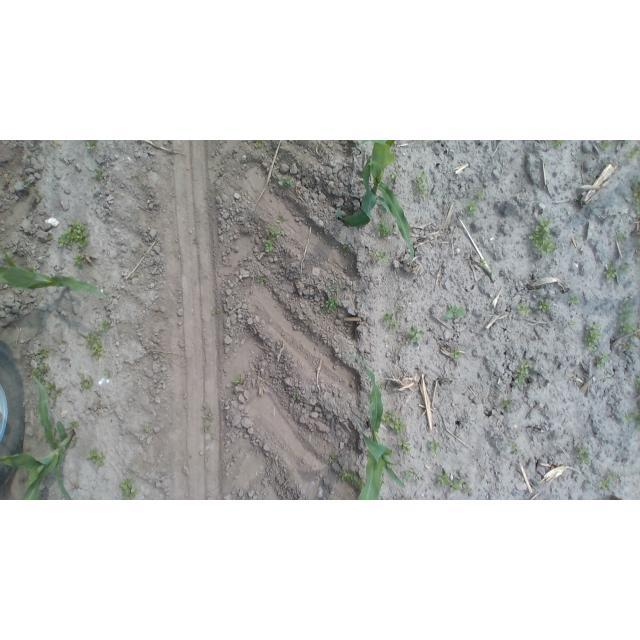Maize: (337, 140, 416, 269), (1, 377, 80, 500), (350, 356, 409, 500), (1, 248, 112, 305)
Weeds: (527, 218, 557, 259), (56, 220, 90, 251), (264, 215, 284, 253), (339, 466, 366, 492), (383, 408, 406, 434), (584, 322, 602, 351), (624, 399, 640, 431), (514, 358, 531, 388), (44, 381, 66, 402), (87, 332, 103, 359), (121, 477, 140, 499), (376, 219, 399, 237), (86, 448, 106, 468), (620, 320, 640, 340), (449, 477, 471, 495), (619, 298, 634, 323), (445, 302, 468, 318), (414, 170, 427, 198), (405, 325, 425, 343), (630, 177, 640, 211), (575, 444, 591, 464), (32, 364, 49, 381), (594, 352, 610, 368), (604, 263, 618, 281), (626, 145, 640, 162), (80, 374, 93, 391), (449, 347, 463, 362), (405, 469, 420, 483), (36, 347, 52, 360), (278, 175, 295, 187), (517, 301, 531, 315), (73, 253, 87, 267), (428, 440, 440, 456), (373, 250, 389, 262), (203, 403, 213, 422), (398, 440, 411, 454), (465, 202, 479, 215), (326, 298, 339, 311), (510, 442, 522, 456), (437, 473, 449, 486), (94, 168, 107, 180), (550, 140, 566, 149), (381, 311, 394, 322), (599, 141, 613, 151), (85, 140, 99, 150), (328, 285, 343, 294), (378, 204, 389, 216), (539, 300, 550, 312), (569, 294, 580, 305), (100, 321, 111, 332), (619, 264, 629, 275), (600, 478, 609, 490), (439, 376, 451, 385), (389, 170, 397, 183), (233, 376, 243, 386), (502, 400, 513, 409), (609, 471, 618, 482), (479, 257, 488, 267), (330, 453, 339, 463), (253, 140, 263, 149), (617, 232, 627, 241), (69, 420, 79, 429), (257, 276, 267, 285), (390, 320, 400, 329), (22, 180, 31, 189), (203, 424, 211, 434), (29, 266, 37, 274), (4, 173, 12, 181), (624, 342, 631, 351), (477, 191, 484, 200), (46, 236, 53, 245), (636, 375, 640, 389), (37, 193, 45, 200), (292, 392, 299, 400), (567, 321, 575, 328), (401, 496, 411, 501), (343, 244, 350, 251), (103, 370, 110, 377), (379, 382, 387, 388), (144, 426, 151, 432), (397, 307, 404, 313), (380, 479, 385, 487), (212, 309, 220, 314), (193, 239, 198, 244), (625, 140, 631, 144), (134, 273, 138, 278), (379, 497, 384, 500)
